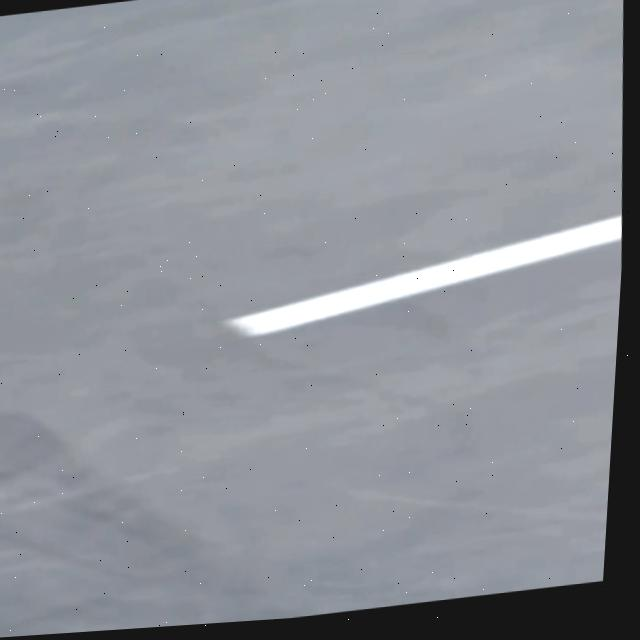center: (224, 214, 622, 335)
